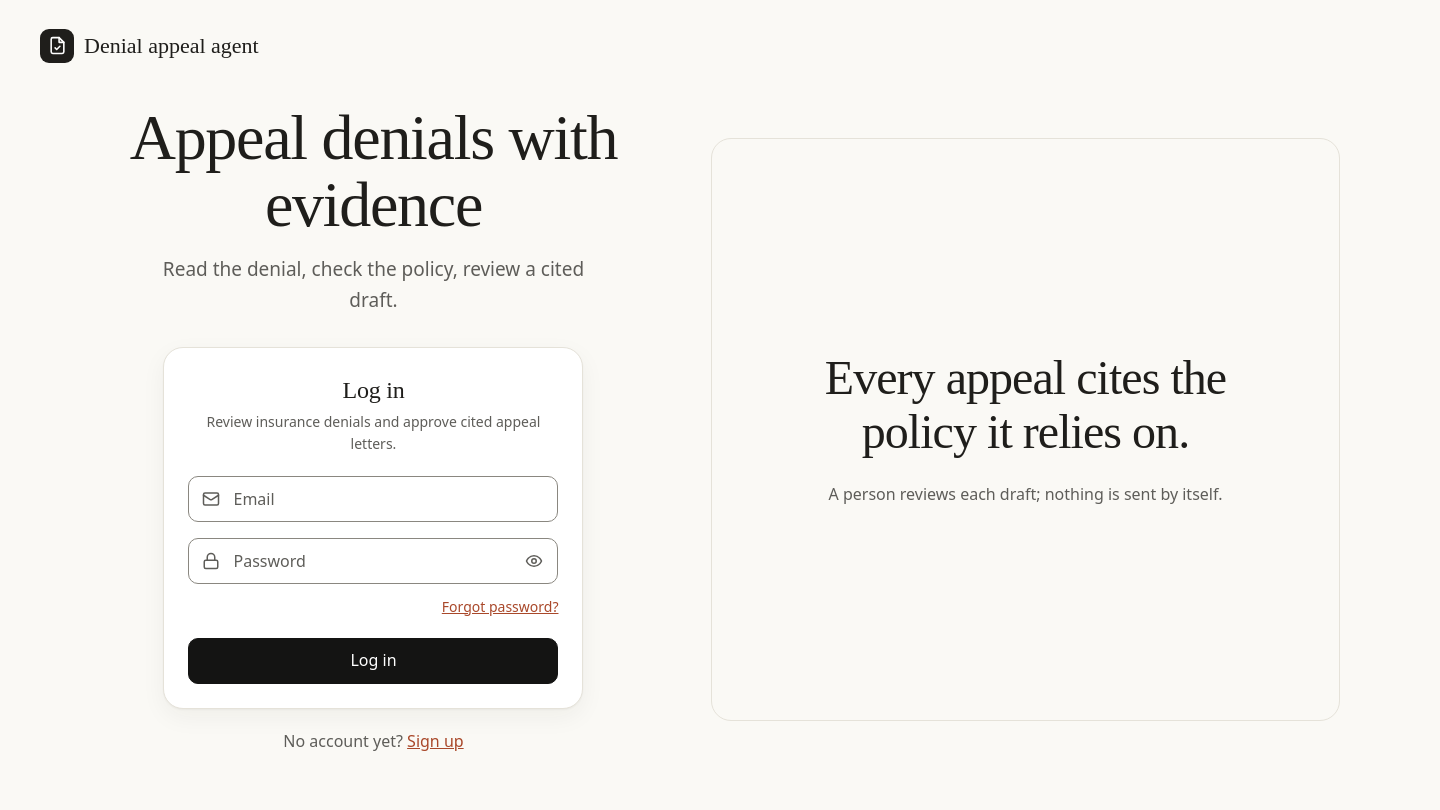
Scenario: LoginScreen › logs in and goes to the worklist
In the field labelled "Email": coordinates (374, 499) [188,476,558,522], type "ada@example.test"
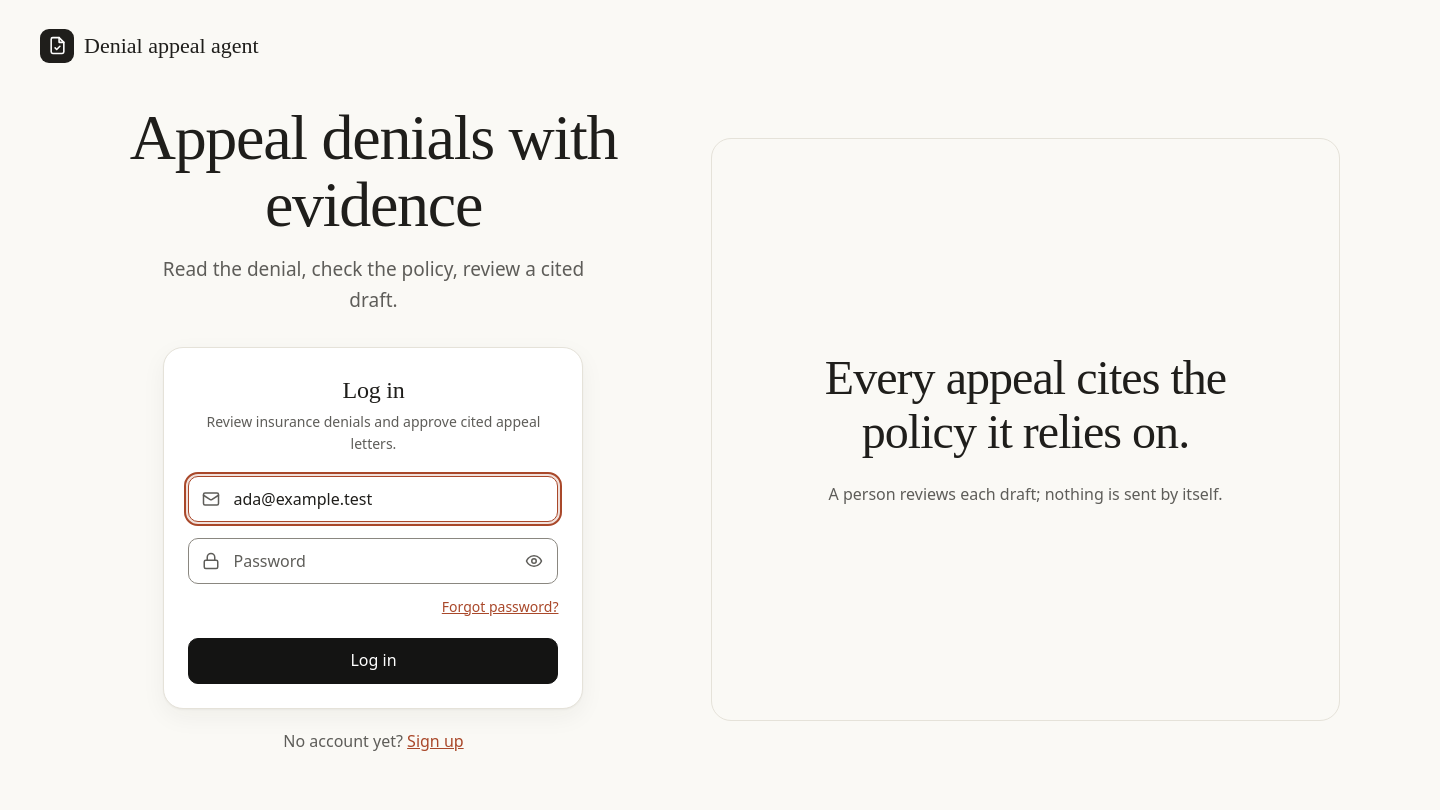
In the password field labelled "Password": coordinates (374, 561) [188,538,558,584], type "a long made-up password"
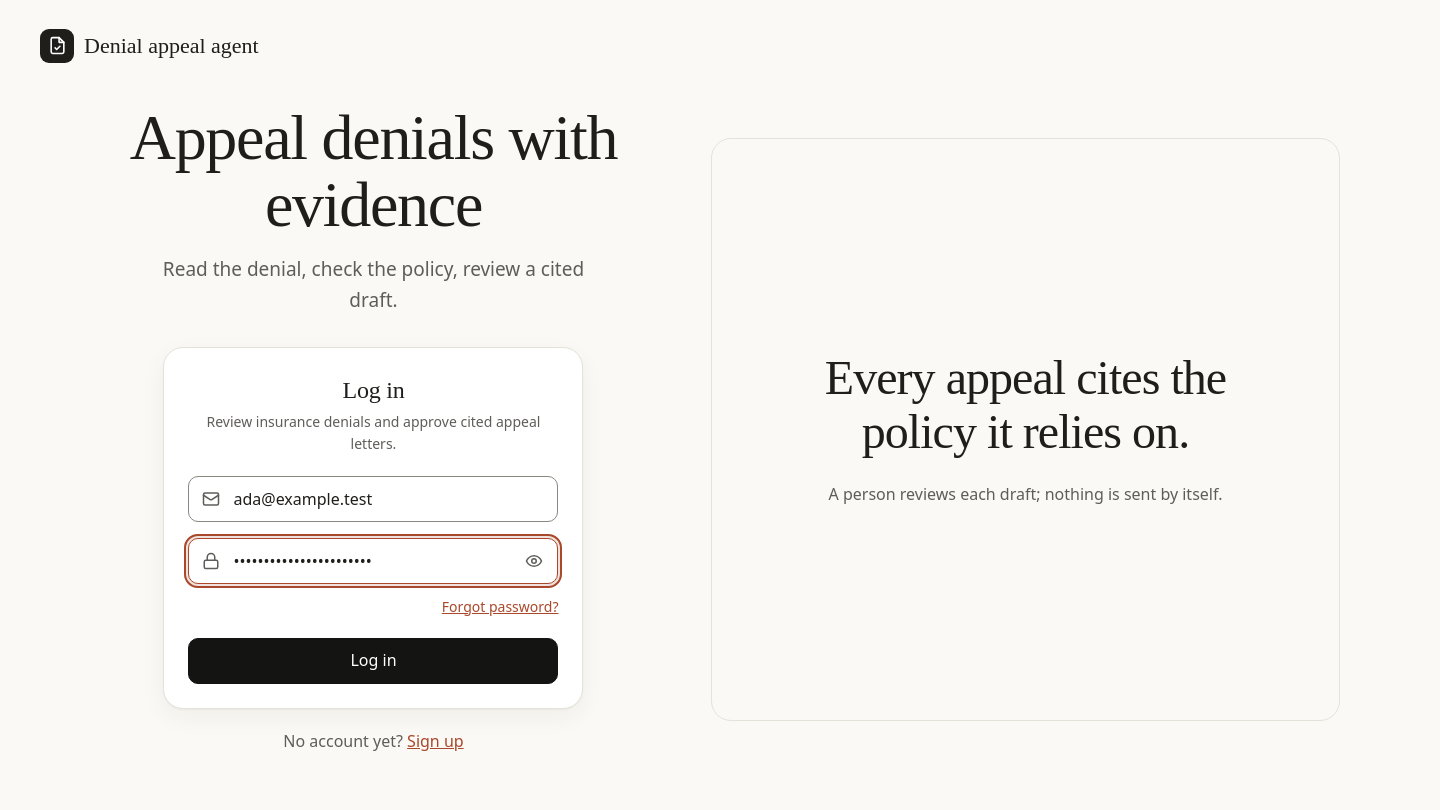
Click the button "Log in": coordinates (374, 661) [188,638,558,684]
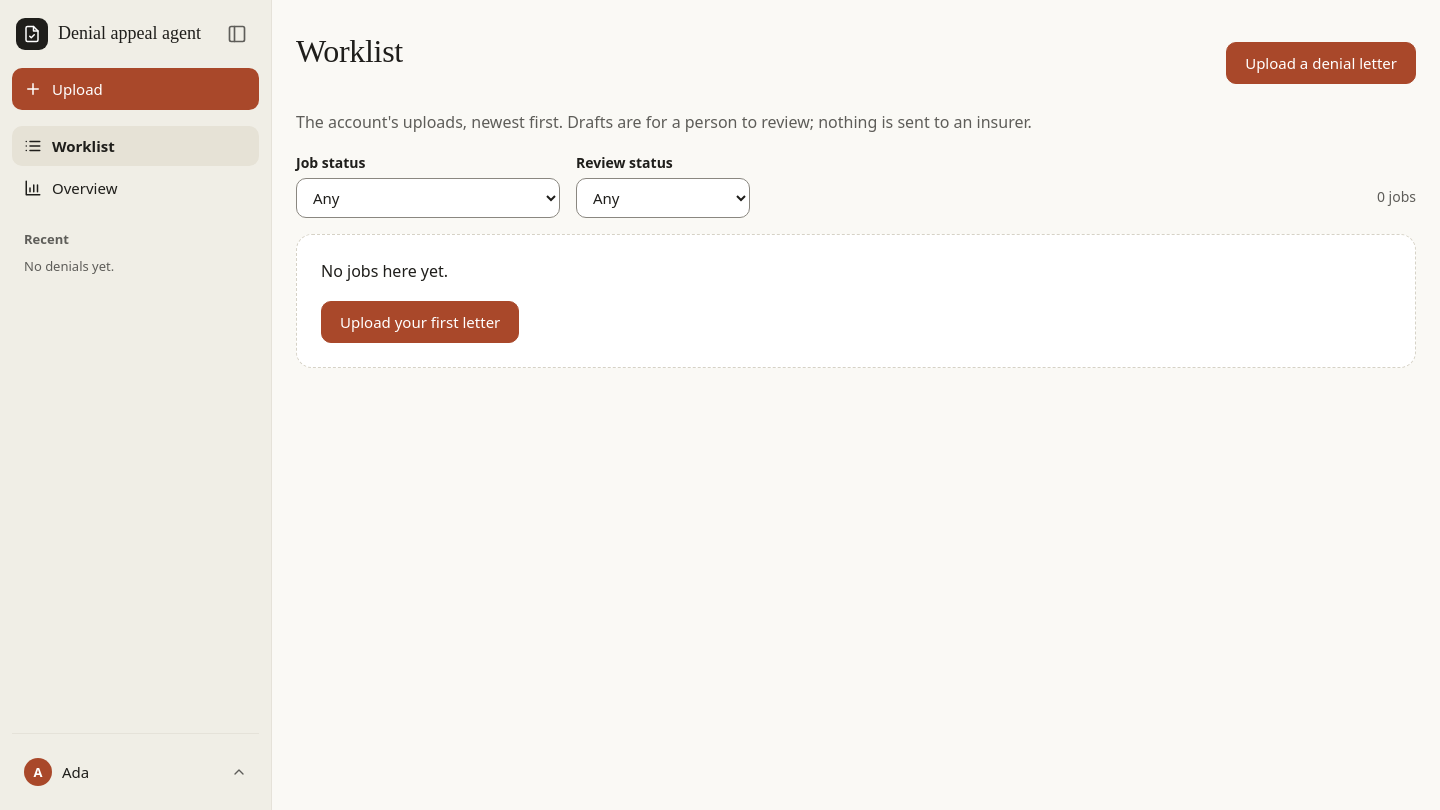
Expected: the heading "Worklist" is shown, [296,32,403,70]
Expected: the button "A Ada" is shown, [16,750,255,794]
